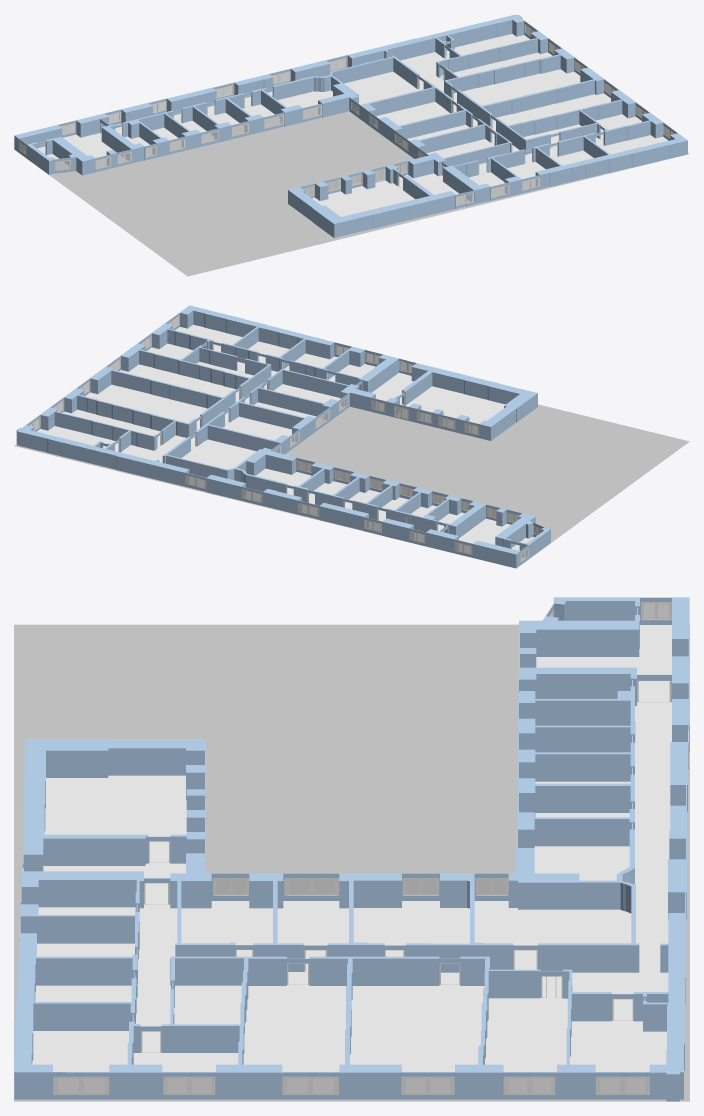
Rendered from 3rdfloor.glb.
3 renders of one model, top to bottom at view 1: azimuth 30°, elevation 25°; view 2: azimuth 150°, elevation 25°; view 3: azimuth 270°, elevation 25°, orthographic. The views are drawn at different scales.
Visible parts, largest first — view 1: ground_1, room_623_3589, room_612_3578, room_604_3562, room_645_3612, room_599_3552, room_611_3576, room_639_3605, wall_395_2369, room_600_3554, wall_411_2465, wall_382_2291 (+29 smaller); view 2: ground_1, room_623_3589, room_604_3562, room_612_3578, room_645_3612, room_599_3552, room_611_3576, room_639_3605, wall_37_220, wall_35_208, wall_388_2327, room_600_3554 (+28 smaller); view 3: ground_1, room_623_3589, room_645_3612, room_612_3578, room_611_3576, room_604_3562, room_613_3580, room_599_3552, room_649_3616, room_600_3554, room_608_3570, room_602_3558 (+54 smaller).
Boxes of the visible parts, left/top/right/bottom form: ground_1: left=15, top=54, right=689, bottom=276; room_623_3589: left=144, top=55, right=687, bottom=224; room_612_3578: left=453, top=69, right=580, bottom=105; room_604_3562: left=312, top=180, right=414, bottom=216; room_645_3612: left=101, top=52, right=603, bottom=174; room_599_3552: left=344, top=71, right=419, bottom=114; room_611_3576: left=492, top=93, right=610, bottom=131; room_639_3605: left=347, top=14, right=538, bottom=58; wall_395_2369: left=401, top=111, right=465, bottom=138; room_600_3554: left=374, top=102, right=449, bottom=127; wall_411_2465: left=370, top=88, right=435, bottom=115; wall_382_2291: left=421, top=125, right=485, bottom=153; ground_1: left=14, top=371, right=689, bottom=568; room_623_3589: left=163, top=305, right=537, bottom=507; room_604_3562: left=396, top=386, right=505, bottom=433; room_612_3578: left=85, top=384, right=207, bottom=430; room_645_3612: left=120, top=361, right=423, bottom=542; room_599_3552: left=181, top=439, right=256, bottom=469; room_611_3576: left=119, top=364, right=239, bottom=402; room_639_3605: left=16, top=415, right=189, bottom=473; wall_37_220: left=48, top=440, right=116, bottom=469; wall_35_208: left=116, top=457, right=184, bottom=486; wall_388_2327: left=258, top=389, right=322, bottom=417; room_600_3554: left=223, top=416, right=293, bottom=445; ground_1: left=14, top=624, right=689, bottom=1101; room_623_3589: left=14, top=679, right=639, bottom=1073; room_645_3612: left=136, top=702, right=671, bottom=1052; room_612_3578: left=350, top=985, right=484, bottom=1092; room_611_3576: left=243, top=985, right=346, bottom=1092; room_604_3562: left=44, top=775, right=186, bottom=862; room_613_3580: left=485, top=997, right=567, bottom=1092; room_599_3552: left=474, top=901, right=631, bottom=969; room_649_3616: left=570, top=1020, right=666, bottom=1092; room_600_3554: left=353, top=901, right=469, bottom=956; room_608_3570: left=32, top=1031, right=128, bottom=1092; room_602_3558: left=181, top=901, right=272, bottom=956.
Size of the model in its own units: 9829 by 262 by 5888.
